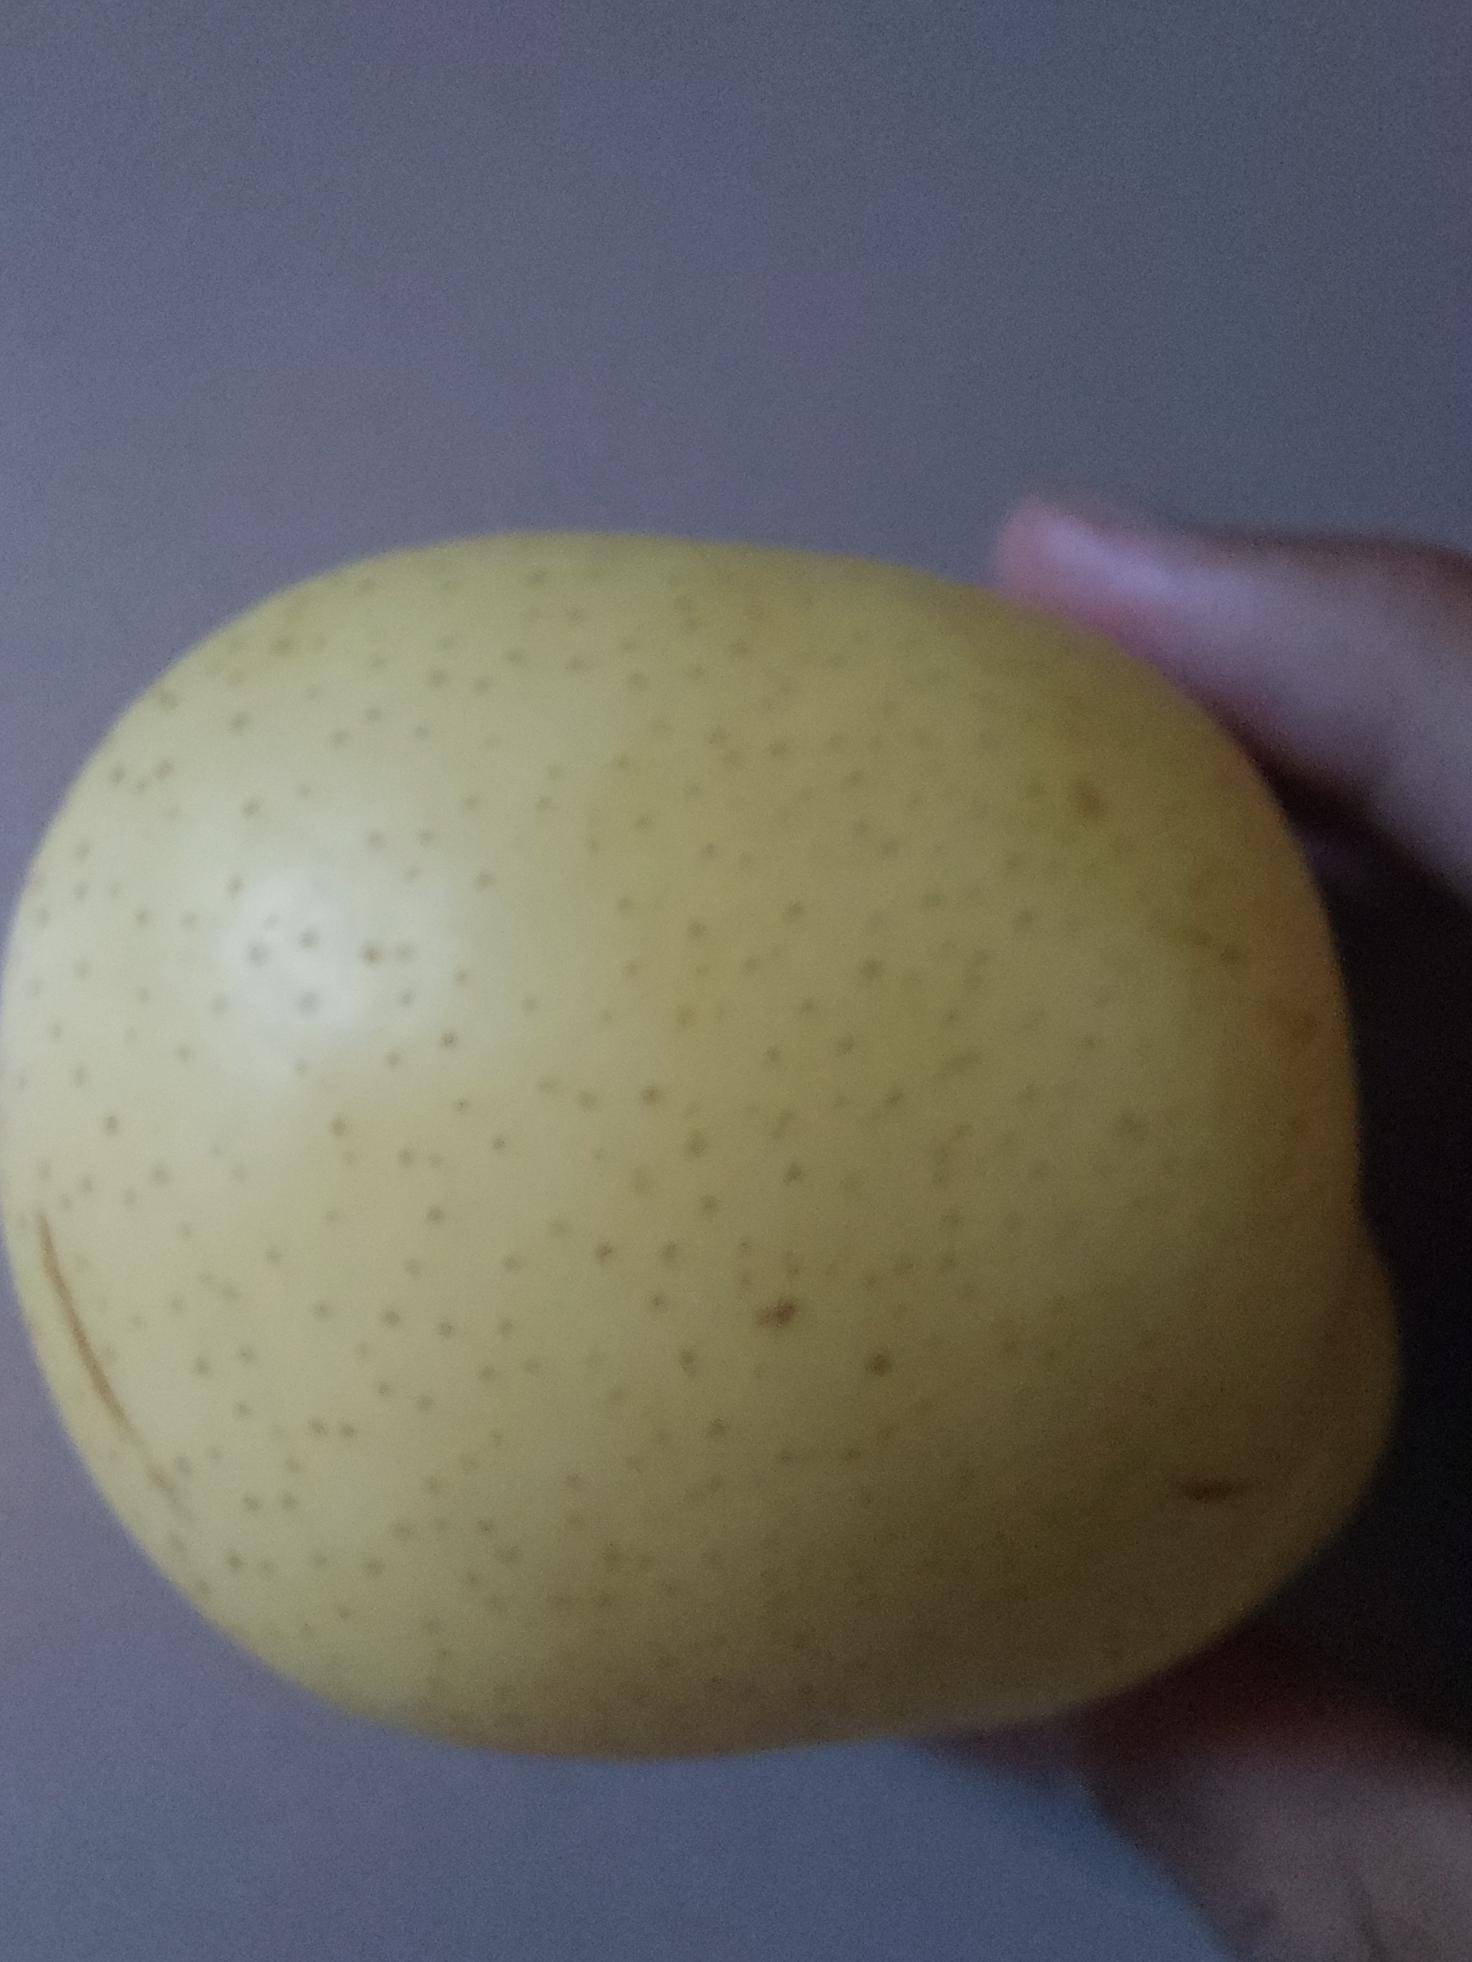Good Pear: (0, 529, 1381, 1770)
